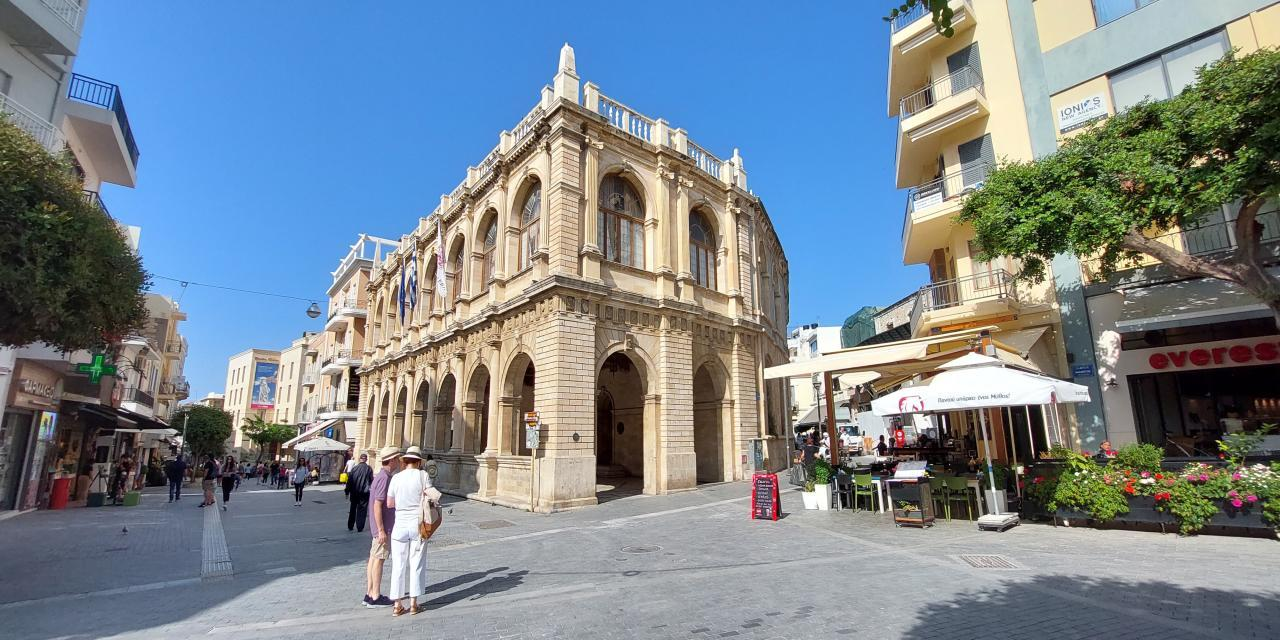Loggia: (354, 34, 801, 514)
